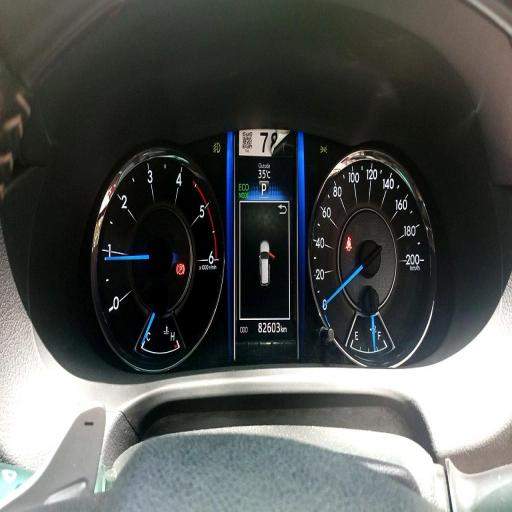belt: (346, 236, 352, 252)
tachometer: (92, 148, 227, 374)
